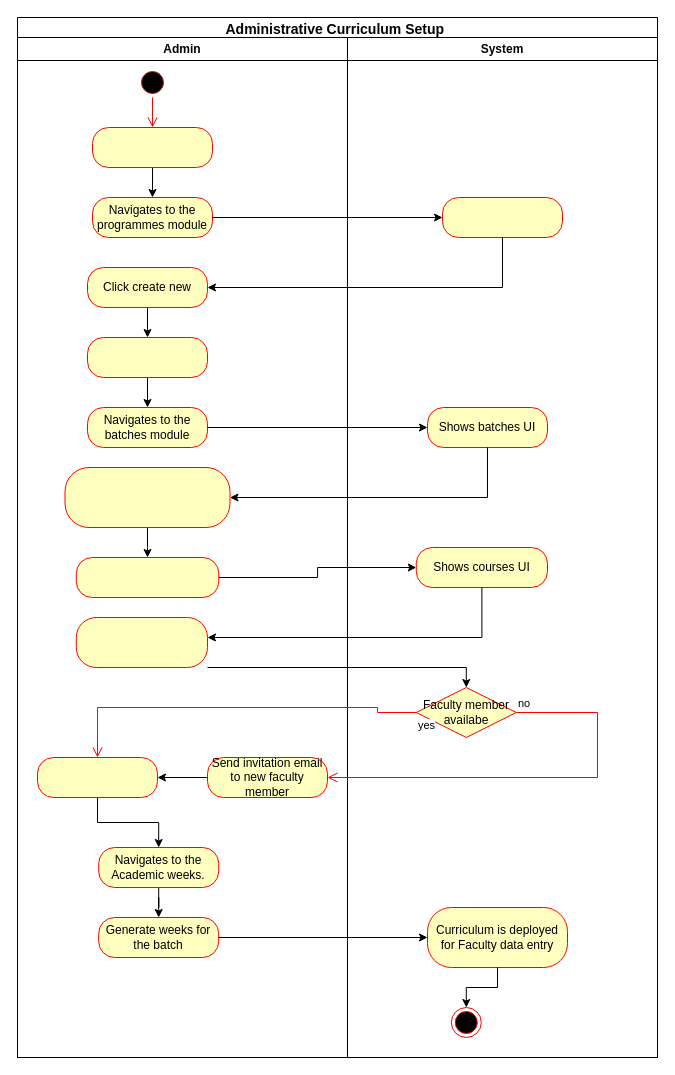
This 675x1075 diagram has some shape labels left out. The centre of each missing label's shape, as x and y in pixels:
"Create new specific courses mapped to the batch" goes at (x=141, y=642).
"Creates a new batch (mapped to the programme just created)" goes at (x=147, y=497).
"Define total weeks" goes at (x=147, y=357).
"Execute the course assignment" goes at (x=97, y=777).
"Logs into the system" goes at (x=152, y=147).
"Navigates to the courses" goes at (x=147, y=577).
"Shows programms UI" goes at (x=502, y=217).
